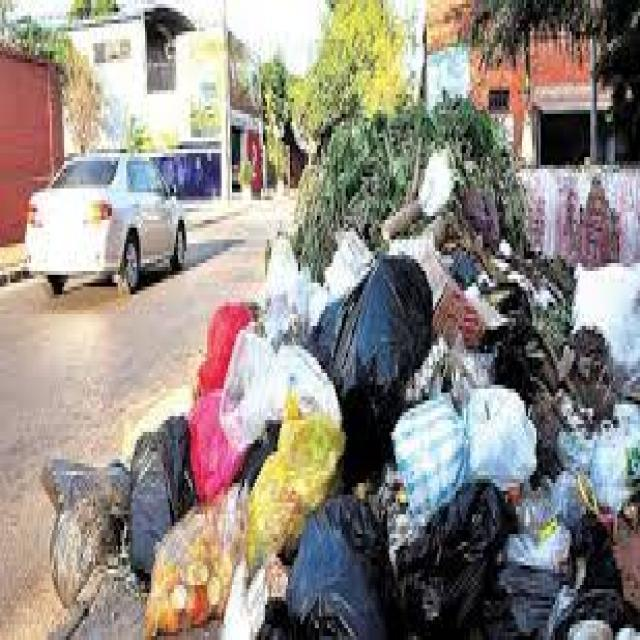garbage: (37, 239, 639, 640)
